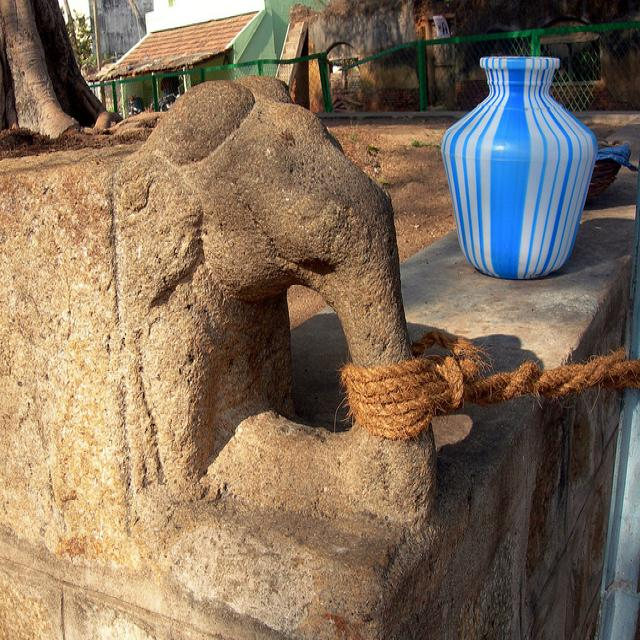motor: (127, 94, 145, 119)
